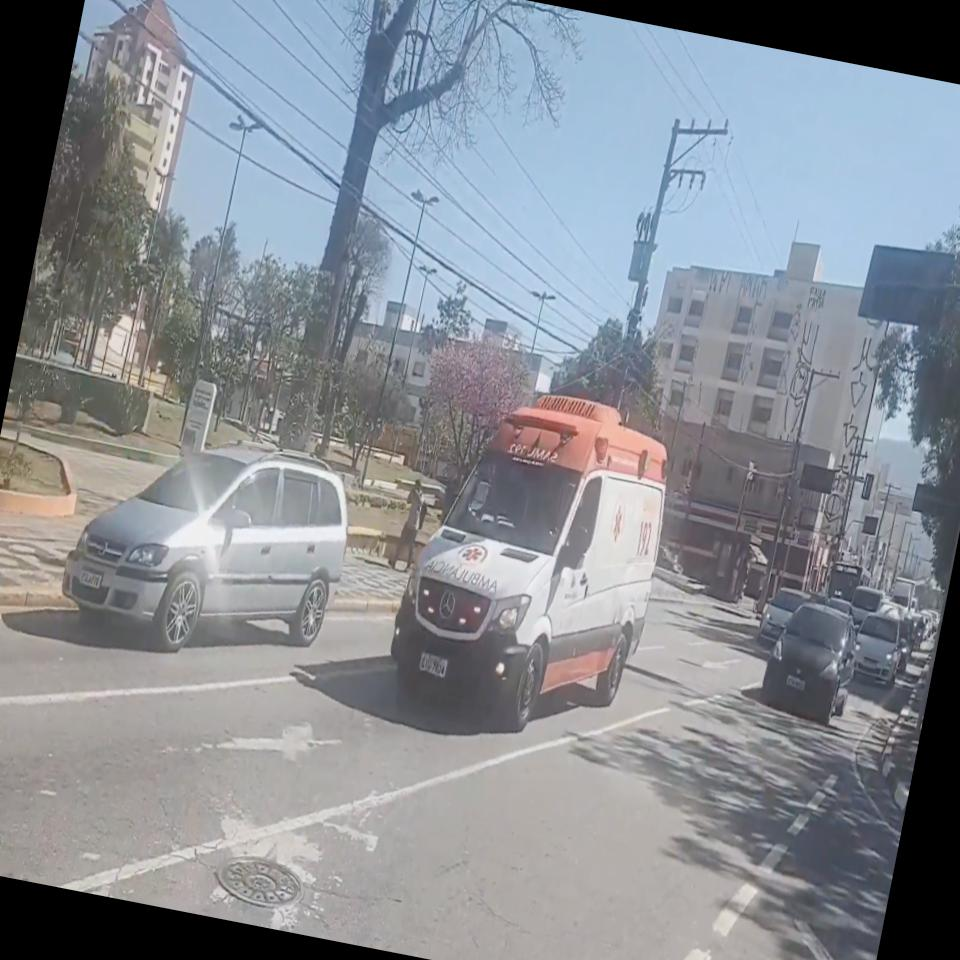bombeiro: (378, 372, 684, 754)
